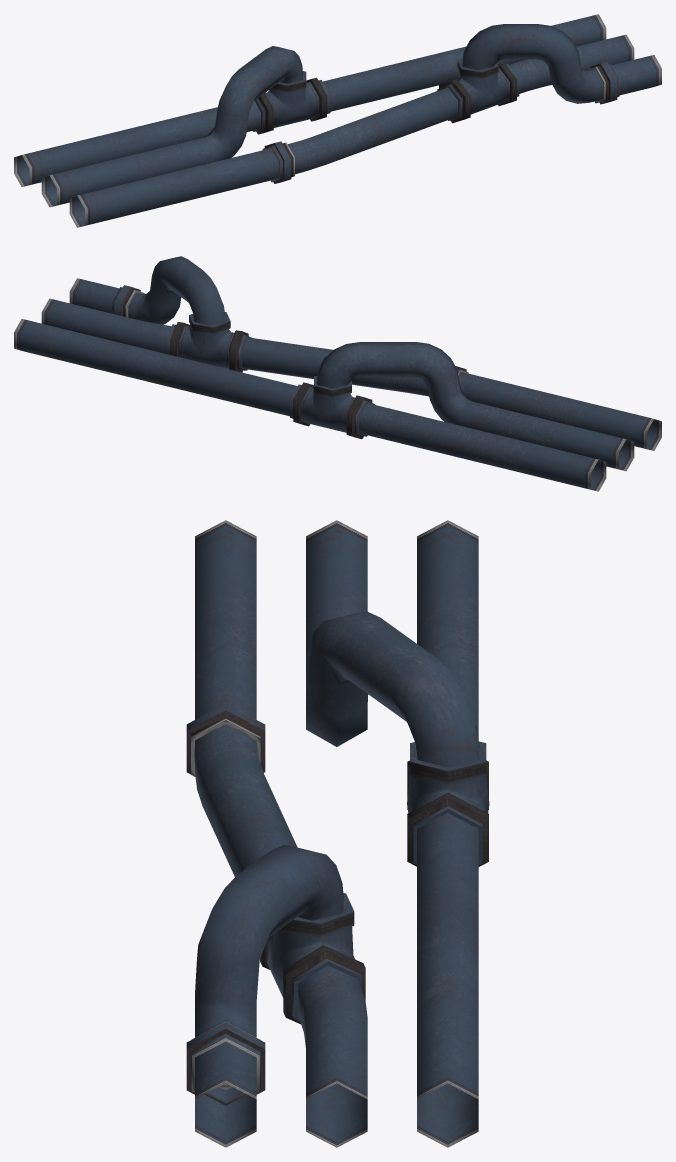
File: Pipe3_E_L1.fbx
The picture shows the model from 3 angles, top to bottom: view 1: azimuth 30°, elevation 25°; view 2: azimuth 150°, elevation 25°; view 3: azimuth 270°, elevation 25°; orthographic projection. The views are drawn at different scales.
Parts seen in each view (by area): view 1: PIpe3_E_L1; view 2: PIpe3_E_L1; view 3: PIpe3_E_L1.
Boxes of the visible parts, x1,y1,x2,y2 form: PIpe3_E_L1: (14, 14, 661, 227); PIpe3_E_L1: (14, 256, 661, 491); PIpe3_E_L1: (186, 520, 489, 1147).
Size of the model in its own units: 200 by 28.61 by 45.45.
